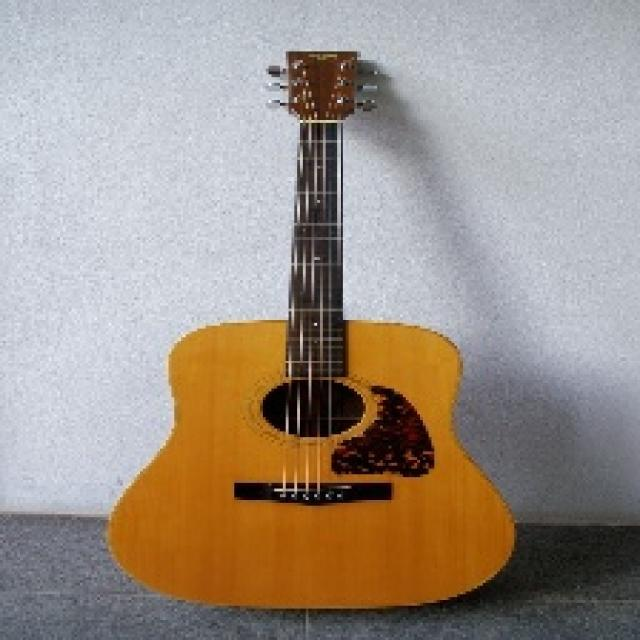acousticguitar: (108, 52, 513, 607)
